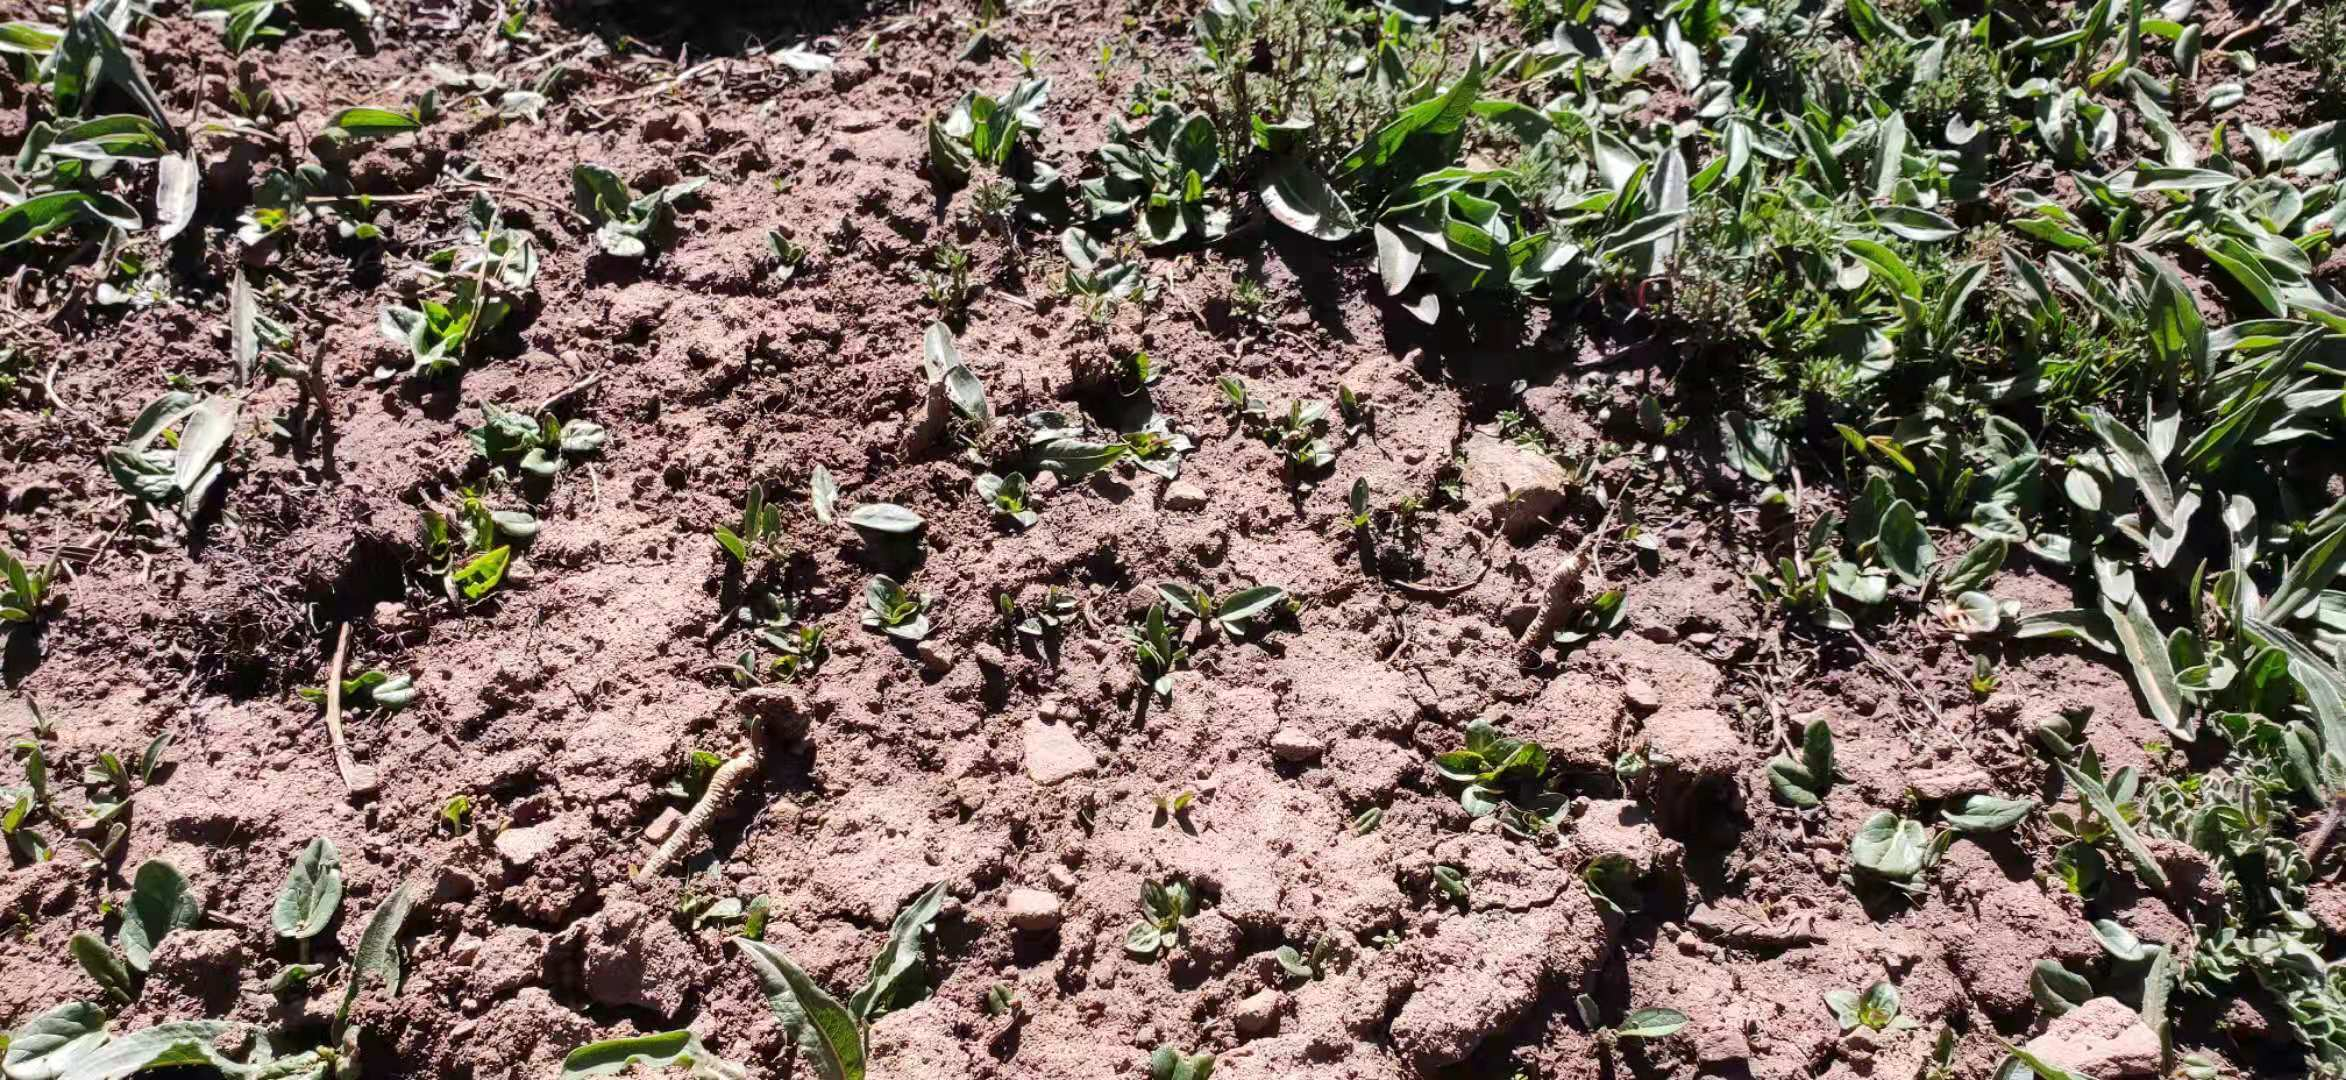cpf: (634, 720, 771, 877), (1514, 553, 1596, 648)
